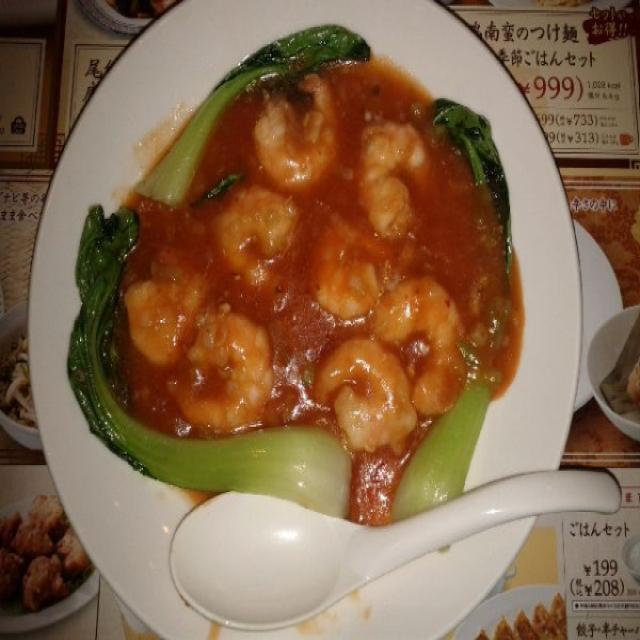熟制海鲜: (20, 0, 585, 640)
